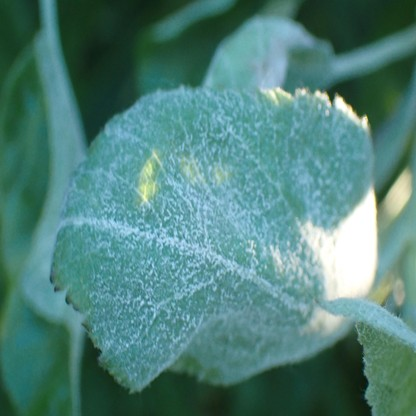powder: (50, 85, 377, 395), (253, 28, 310, 85)
